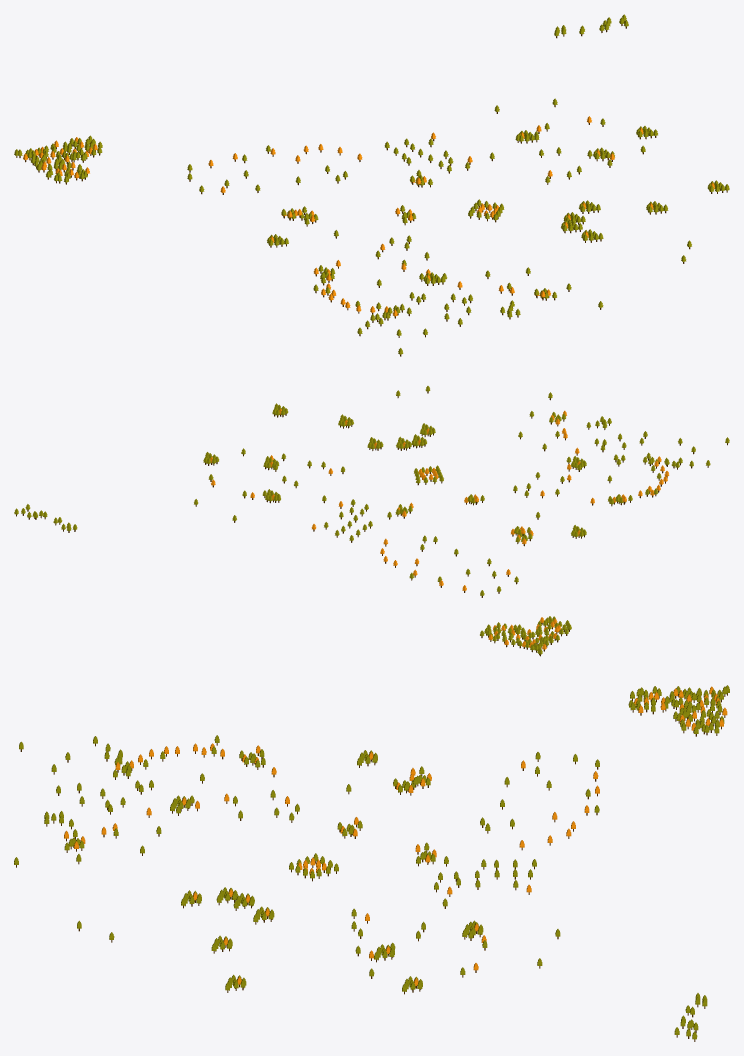
Rendered from orangerie.gltf.
The picture shows the model from 3 angles, top to bottom: view 1: azimuth 30°, elevation 25°; view 2: azimuth 150°, elevation 25°; view 3: azimuth 270°, elevation 25°; orthographic projection. The views are drawn at different scales.
Visible parts, largest first — view 1: Cube.420; view 2: Cube.420; view 3: Cube.420.
Boxes of the visible parts, x1,y1,x2,y2 form: Cube.420: [14, 14, 729, 356]; Cube.420: [14, 386, 729, 656]; Cube.420: [14, 685, 729, 1041].
Size of the model in its own units: 4.03 by 0.0884 by 3.5.
